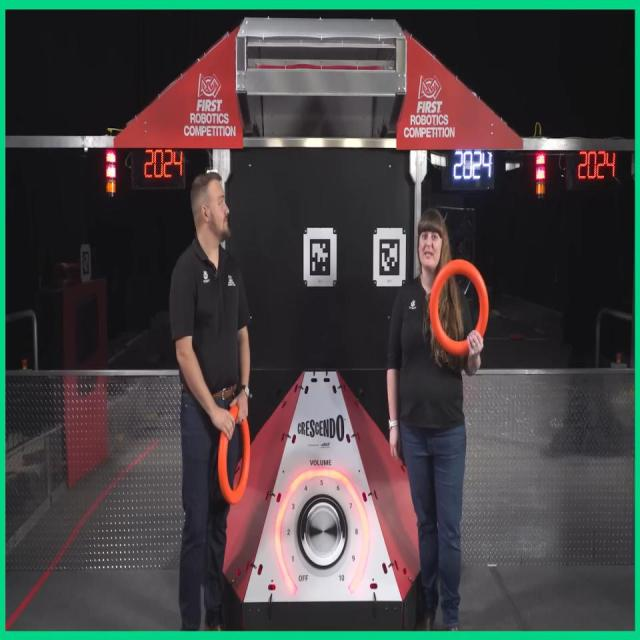note: (430, 261, 489, 358), (218, 405, 250, 504)
